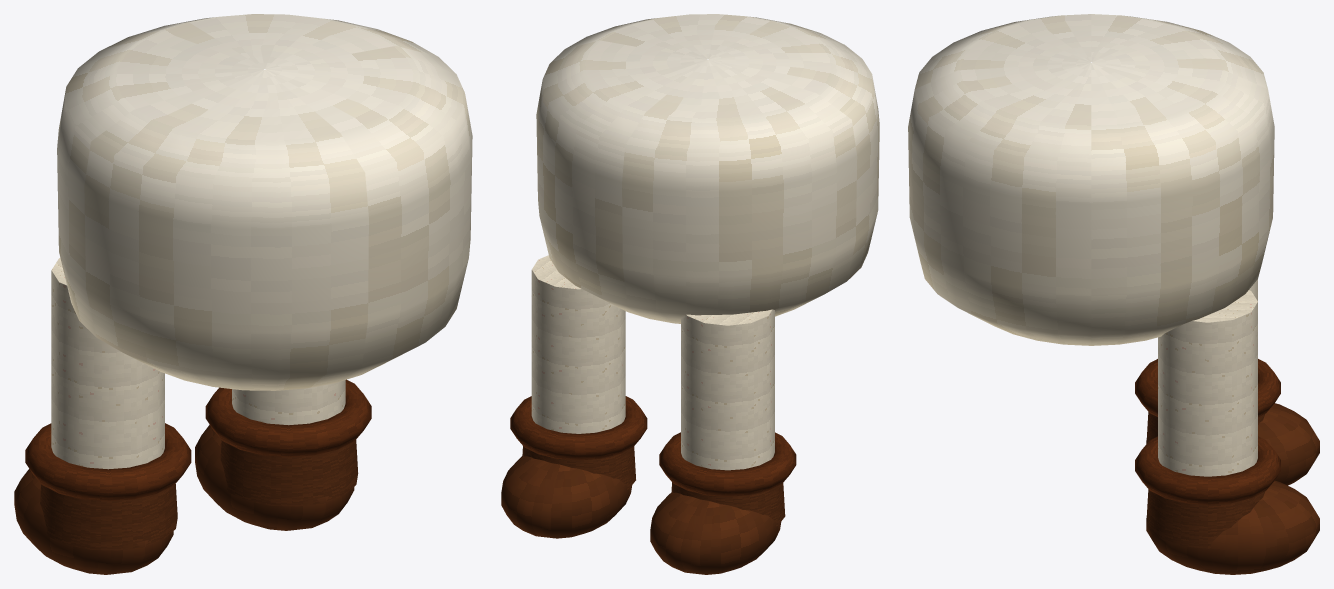
File: first_person_body.glb
3 renders of one model, left to right at view 1: azimuth 30°, elevation 25°; view 2: azimuth 150°, elevation 25°; view 3: azimuth 270°, elevation 25°, orthographic. The views are drawn at different scales.
Visible parts, largest first — view 1: first_person_body; view 2: first_person_body; view 3: first_person_body.
Part boxes in pixels (x1,y1,x2,y2): first_person_body: [14, 14, 472, 574]; first_person_body: [501, 14, 879, 574]; first_person_body: [908, 14, 1319, 574].
Bounding box in the file's own units: 0.44 × 0.6162 × 0.4942.
Materials: 4 (4 with a texture image).
